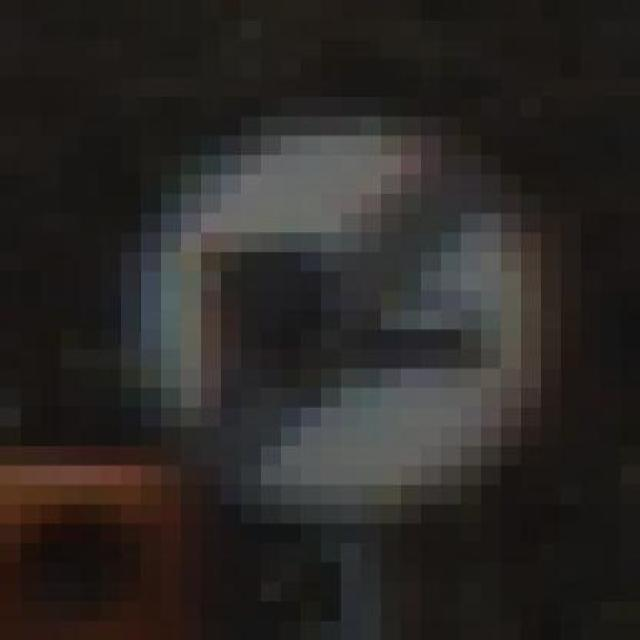Overtaking by trucks is prohibited: (100, 58, 580, 562)
